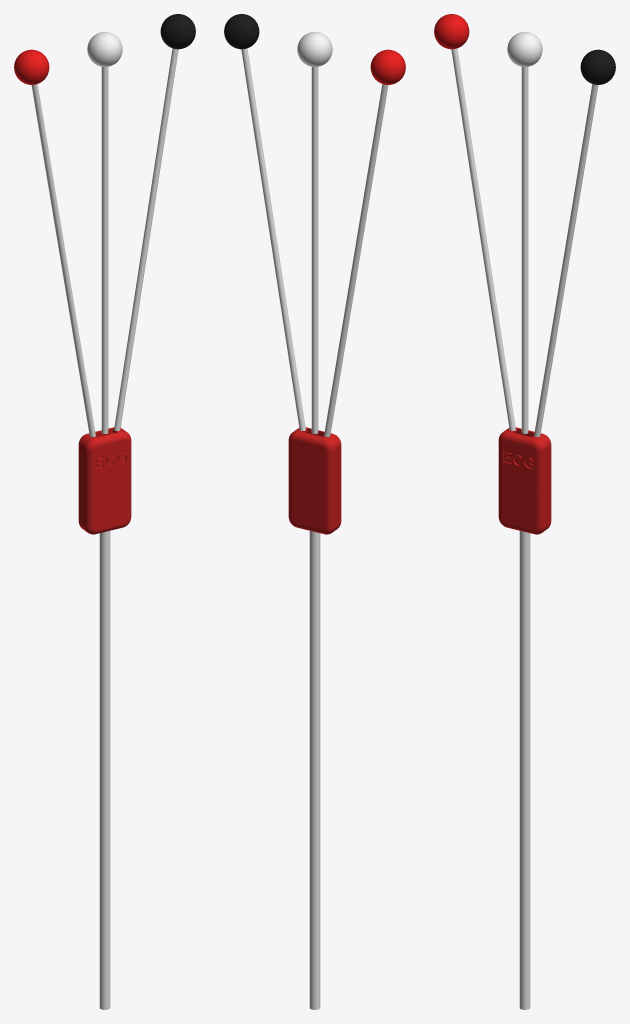
The model's file is ecg_sensor.glb.
The picture shows the model from 3 angles, left to right: view 1: azimuth 30°, elevation 25°; view 2: azimuth 150°, elevation 25°; view 3: azimuth 330°, elevation 25°; orthographic projection.
Parts seen in each view (by area): view 1: uce6_cable, lead_1, ecg_top, lead_2, lead_0, ecg_bot, lead_snap_0, lead_snap_2, lead_snap_1; view 2: uce6_cable, lead_1, ecg_top, lead_2, lead_0, ecg_bot, lead_snap_0, lead_snap_2, lead_snap_1; view 3: uce6_cable, lead_1, ecg_top, lead_0, lead_2, ecg_bot, lead_snap_0, lead_snap_2, lead_snap_1.
Boxes of the visible parts, x1,y1,x2,y2 form: uce6_cable: (99,531,110,1009); lead_1: (101,67,108,433); ecg_top: (78,427,131,489); lead_2: (114,48,178,430); lead_0: (31,84,95,436); ecg_bot: (78,479,131,534); lead_snap_0: (14,49,49,84); lead_snap_2: (160,14,195,49); lead_snap_1: (87,32,122,66); uce6_cable: (309,531,320,1009); lead_1: (311,67,318,433); ecg_top: (288,427,341,489); lead_2: (241,48,305,430); lead_0: (324,84,388,436); ecg_bot: (288,479,341,534); lead_snap_0: (370,49,405,84); lead_snap_2: (224,14,259,49); lead_snap_1: (297,32,332,66); uce6_cable: (519,531,530,1009); lead_1: (521,67,528,433); ecg_top: (498,427,551,489); lead_0: (451,48,515,430); lead_2: (534,84,598,436); ecg_bot: (498,479,551,534); lead_snap_0: (434,14,469,49); lead_snap_2: (580,49,615,84); lead_snap_1: (507,32,542,66).
Size of the model in its own units: 0.058 by 0.305 by 0.00999.
